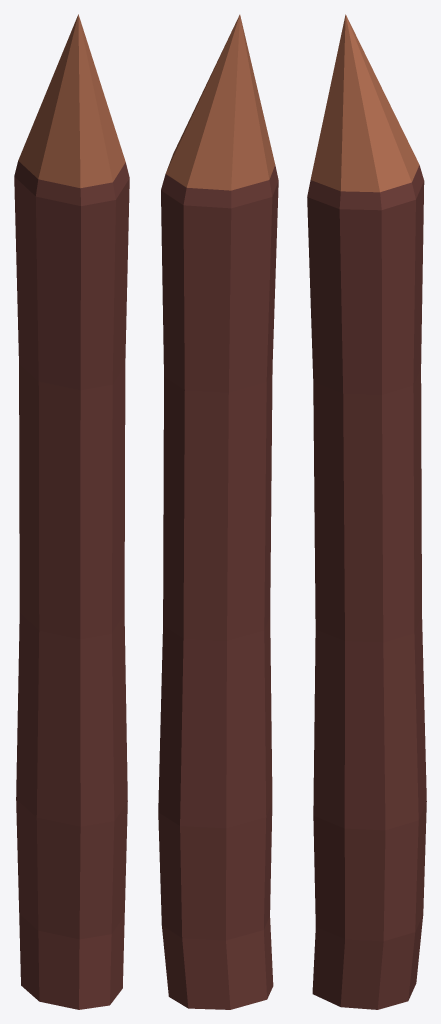
The model's file is Wooden Pole Sharp 12.fbx.
3 renders of one model, left to right at view 1: azimuth 90°, elevation 25°; view 2: azimuth 150°, elevation 25°; view 3: azimuth 330°, elevation 25°, orthographic.
Visible parts, largest first — view 1: Wooden Pole Sharp 12; view 2: Wooden Pole Sharp 12; view 3: Wooden Pole Sharp 12.
Boxes of the visible parts, <box> form: Wooden Pole Sharp 12: <box>14,14,129,1009</box>; Wooden Pole Sharp 12: <box>158,14,278,1009</box>; Wooden Pole Sharp 12: <box>307,14,426,1009</box>.
Bounding box in the file's own units: 31.39 × 284 × 30.25.
